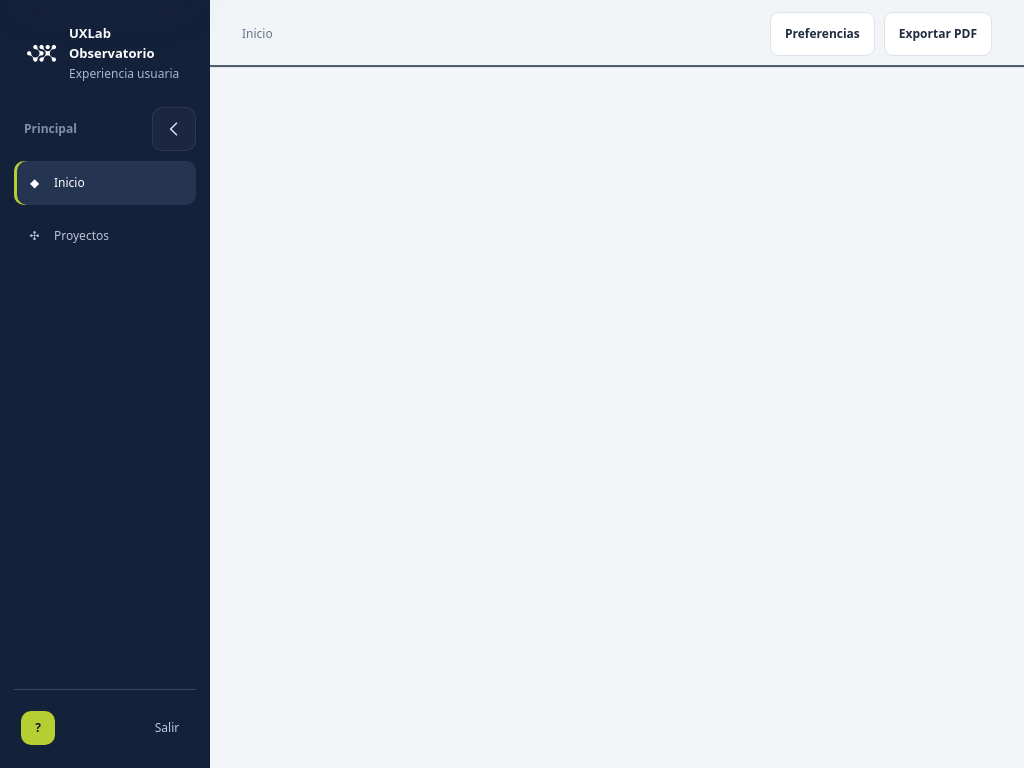
it: Selector "Viendo como" › abre preferencias en un diálogo y permite cerrarlo
This screenshot has width=1024, height=768.
Click the button "Preferencias".
click(822, 34)  # box [770,12,875,56]
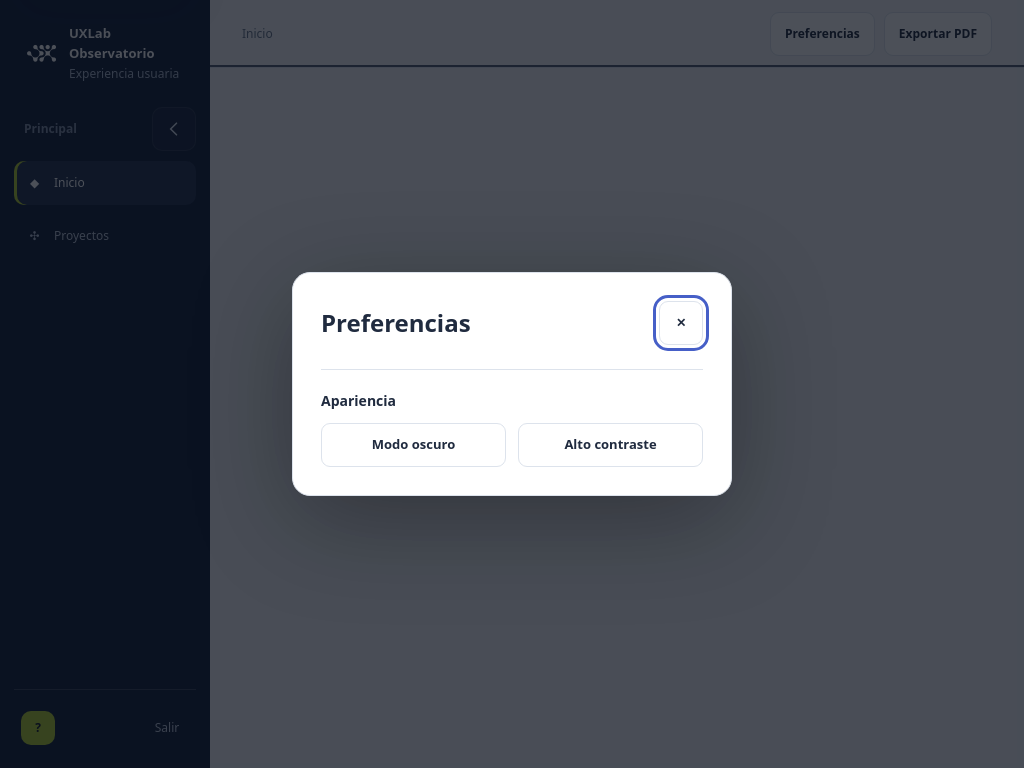
Check: the dialog "Preferencias" is shown, box [292,272,732,496]
Click the button named "Cerrar preferencias".
click(681, 323)  # box [659,301,703,345]
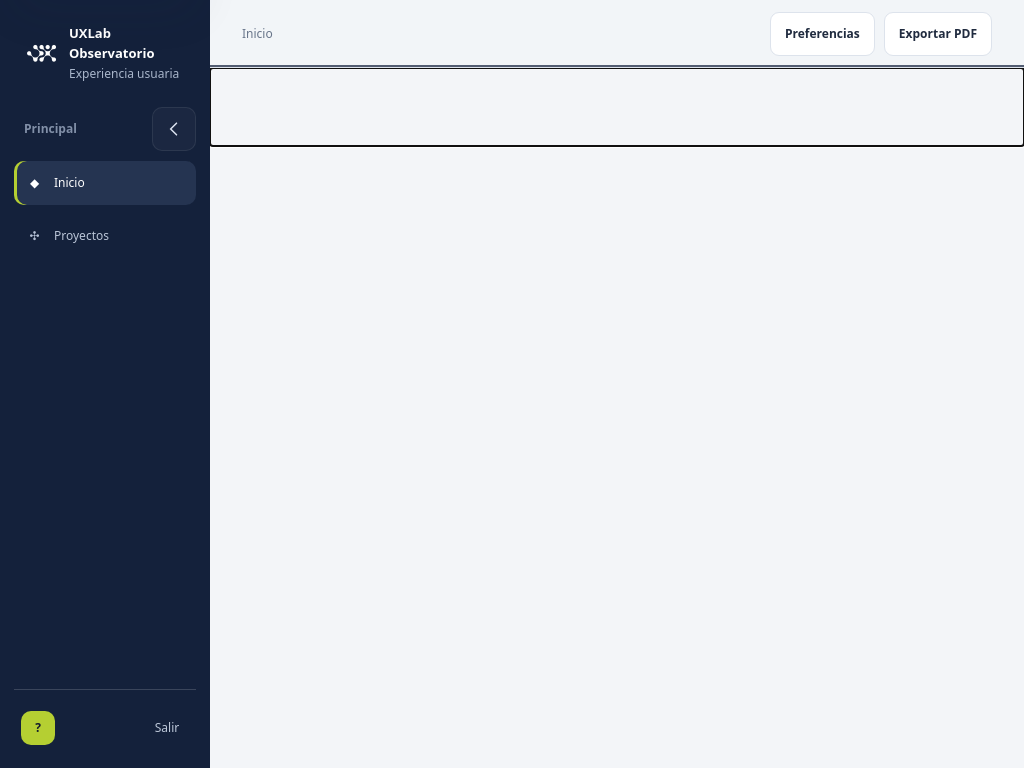
Check: the dialog is gone
